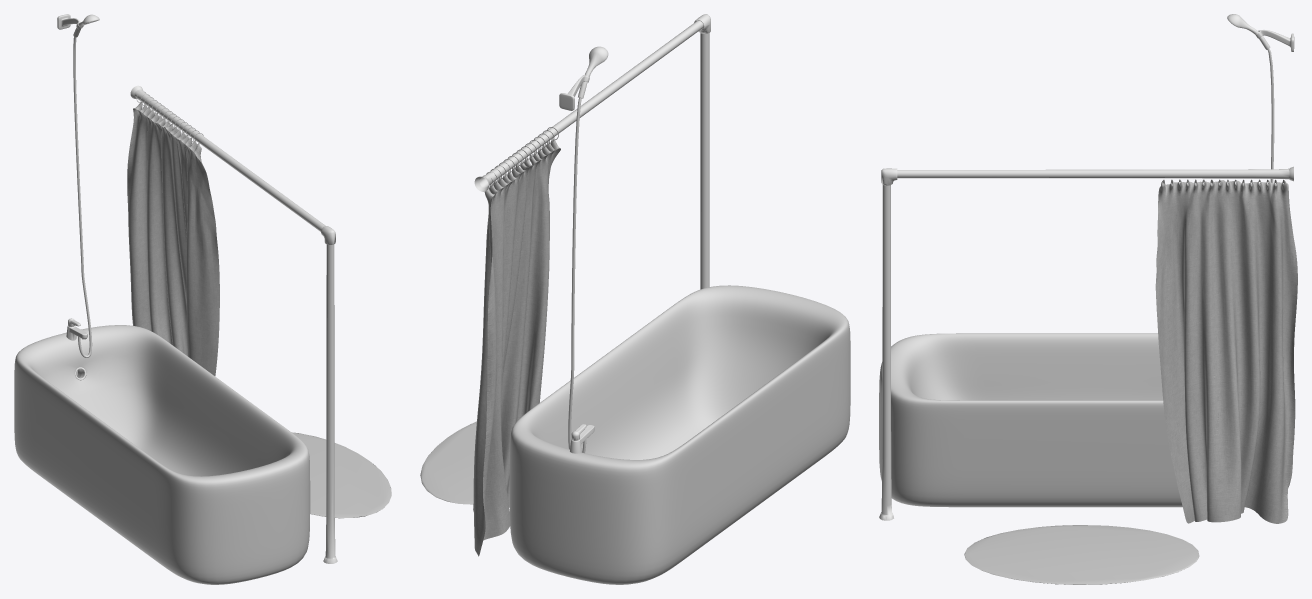
File: bath.fbx
3 renders of one model, left to right at view 1: azimuth 30°, elevation 25°; view 2: azimuth 150°, elevation 25°; view 3: azimuth 270°, elevation 25°, orthographic. The views are drawn at different scales.
Parts seen in each view (by area): view 1: bath, bath.029, bath.010, bath.012, bailer_hose; view 2: bath, bath.029, bath.010, bath.012, bailer_hose, bath.008; view 3: bath, bath.029, bath.012, bath.010, bath.008.
Boxes of the visible parts, x1=… form: bath: x1=14, y1=325, x2=310, y2=584; bath.029: x1=127, y1=101, x2=219, y2=375; bath.010: x1=130, y1=85, x2=337, y2=563; bath.012: x1=292, y1=432, x2=391, y2=518; bailer_hose: x1=73, y1=37, x2=92, y2=357; bath: x1=509, y1=285, x2=850, y2=584; bath.029: x1=473, y1=138, x2=560, y2=556; bath.010: x1=474, y1=14, x2=710, y2=289; bath.012: x1=420, y1=421, x2=476, y2=504; bailer_hose: x1=568, y1=97, x2=586, y2=453; bath.008: x1=559, y1=46, x2=608, y2=110; bath: x1=879, y1=333, x2=1293, y2=507; bath.029: x1=1155, y1=179, x2=1297, y2=523; bath.012: x1=964, y1=525, x2=1199, y2=584; bath.010: x1=879, y1=166, x2=1293, y2=520; bath.008: x1=1227, y1=14, x2=1294, y2=51.
Bounding box in the file's own units: 156 × 243 × 197.
